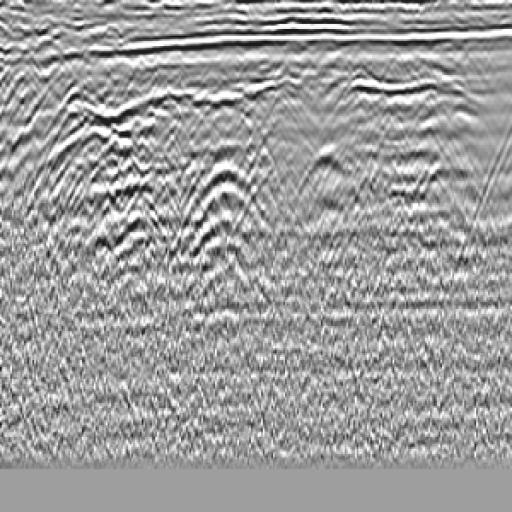metalic: (329, 61, 407, 121), (245, 59, 313, 121)
